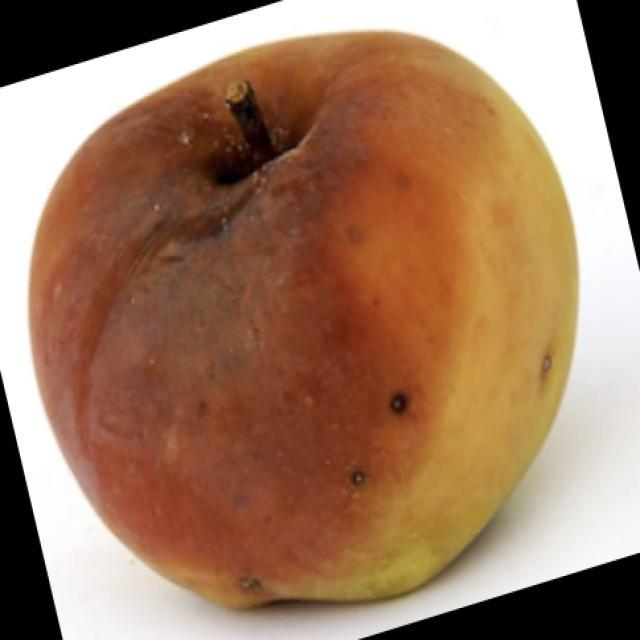Rotten: (20, 30, 580, 610)
